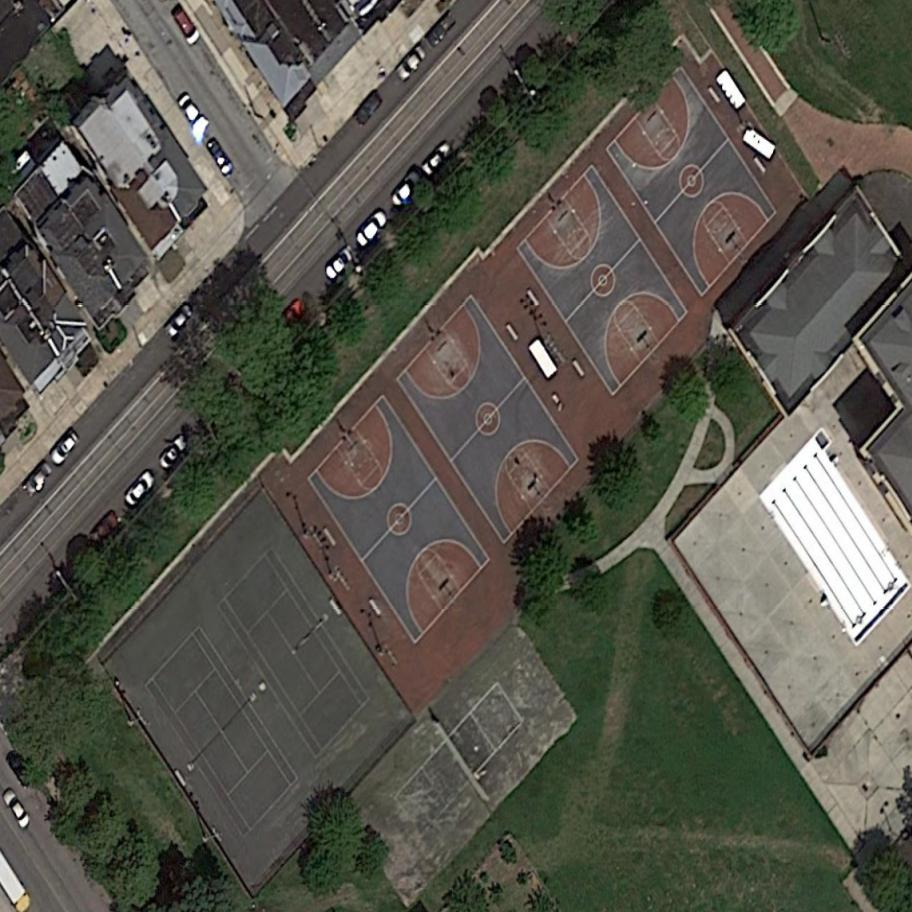small-vehicle: (389, 40, 437, 88), (349, 205, 394, 253), (385, 169, 429, 215), (153, 430, 196, 477), (15, 459, 59, 504), (320, 241, 363, 286), (416, 138, 459, 183), (348, 88, 391, 133), (270, 293, 313, 337), (83, 508, 125, 551), (120, 468, 161, 512), (44, 426, 84, 471), (0, 788, 36, 835), (1, 747, 37, 793), (159, 301, 199, 342), (423, 10, 462, 50), (170, 5, 205, 49), (174, 90, 208, 134), (204, 136, 237, 181)
